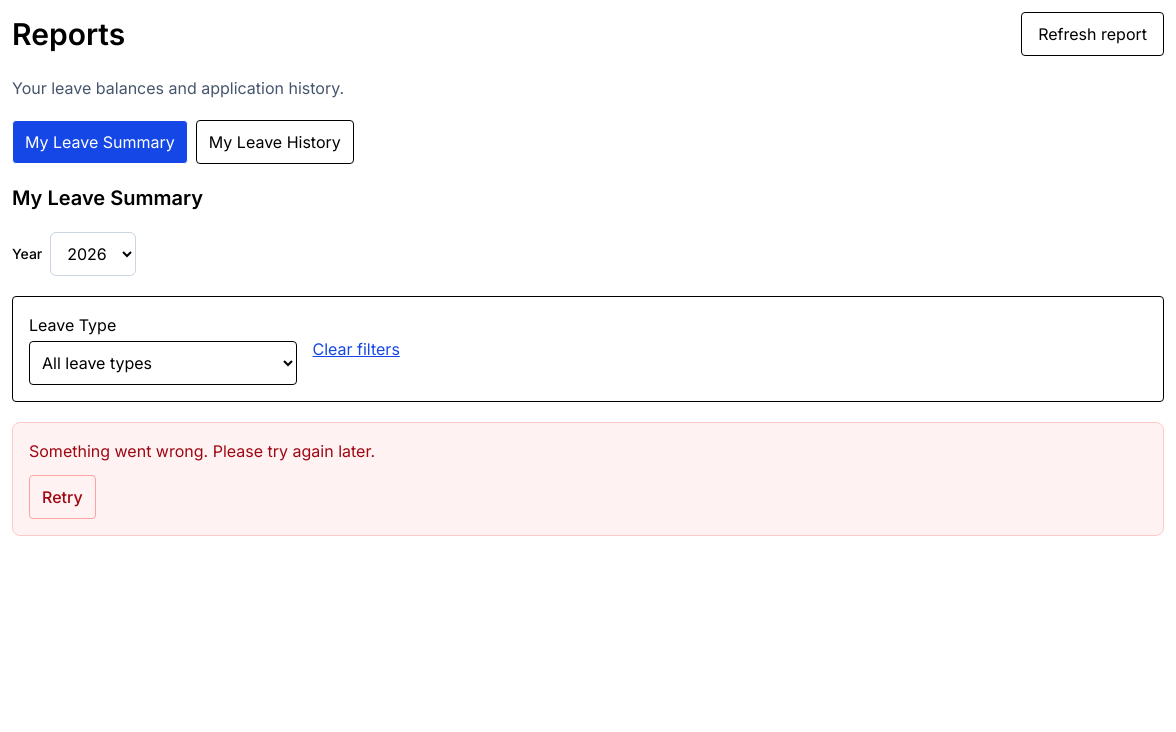
Test case: role reports › uses safe errors/retry without showing partial report
Expected: the message does not show "unsafe SQL", [12,422,1164,536]
What coordinates should you click on to do the following:
click the button "Retry"
I would click on:
 (62, 497)
Its box is [29,475,96,519].
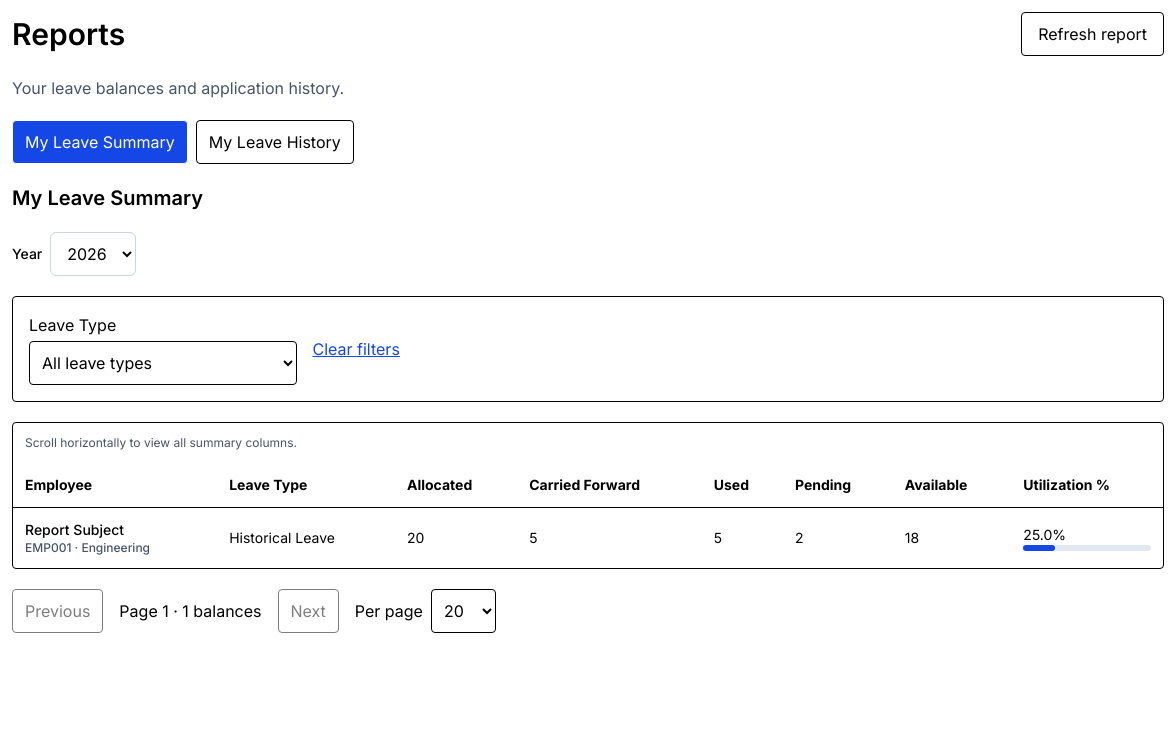
Now the table is shown, box [13,463,1163,568]
